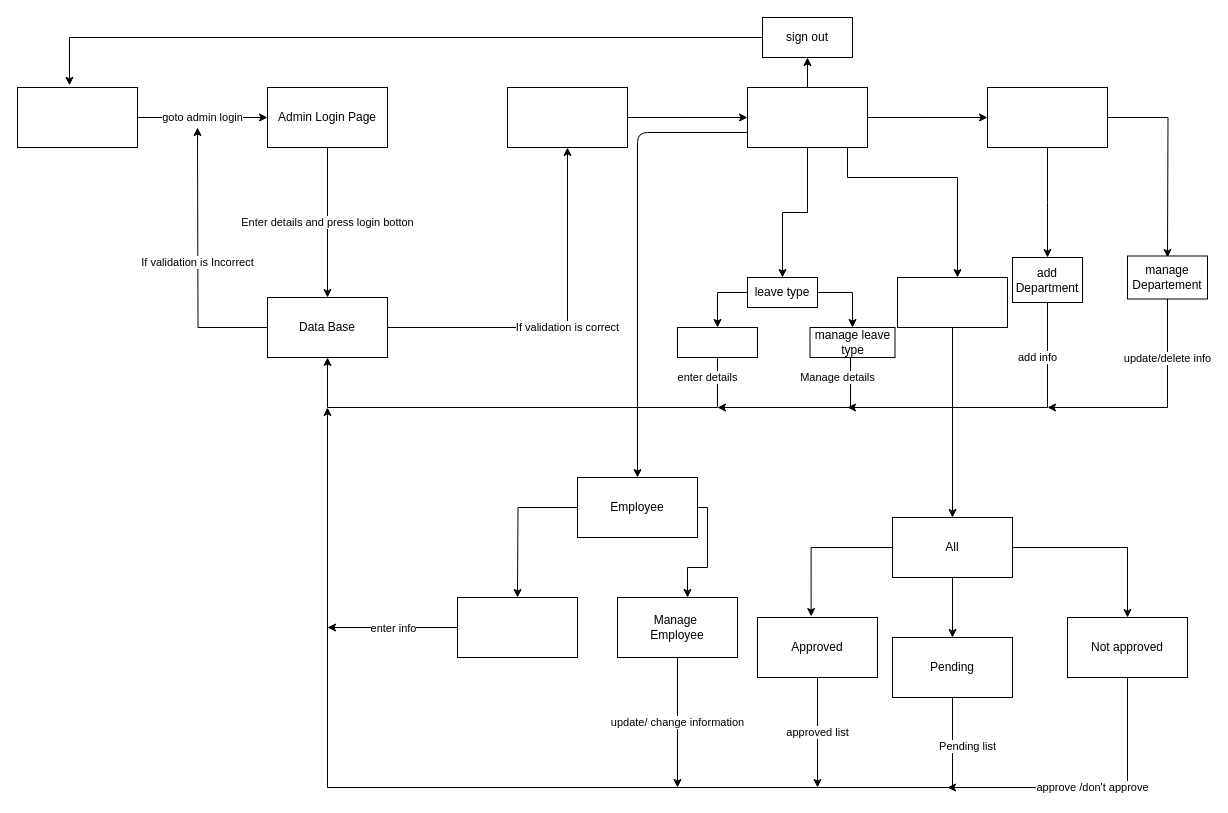
Image size: 1228x813. Some labels were removed from this diagram. The centre of each missing label's shape, as x and y in pixels:
Add Employee: the point at 517,627
add leave type: the point at 717,342
Admin Dashboard: the point at 567,117
department: the point at 1047,117
Homepage: the point at 77,117
leave managment: the point at 952,302
side bar: the point at 807,117
